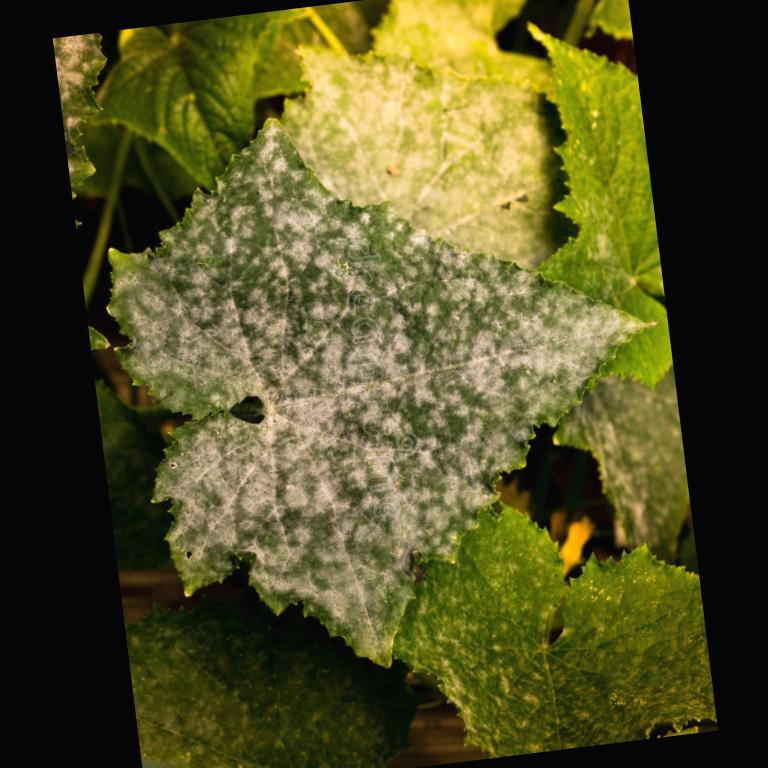powdery-mildew: (378, 280, 544, 458), (177, 212, 328, 386), (190, 428, 354, 551)
